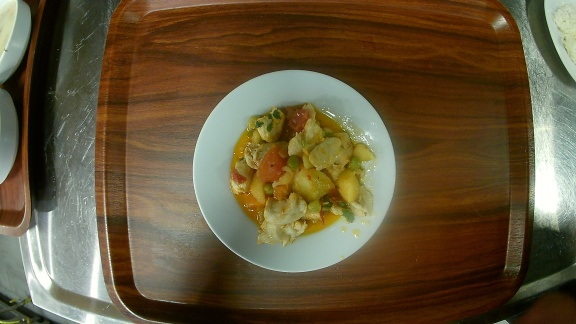bezelyelitavuk: (192, 68, 398, 274)
